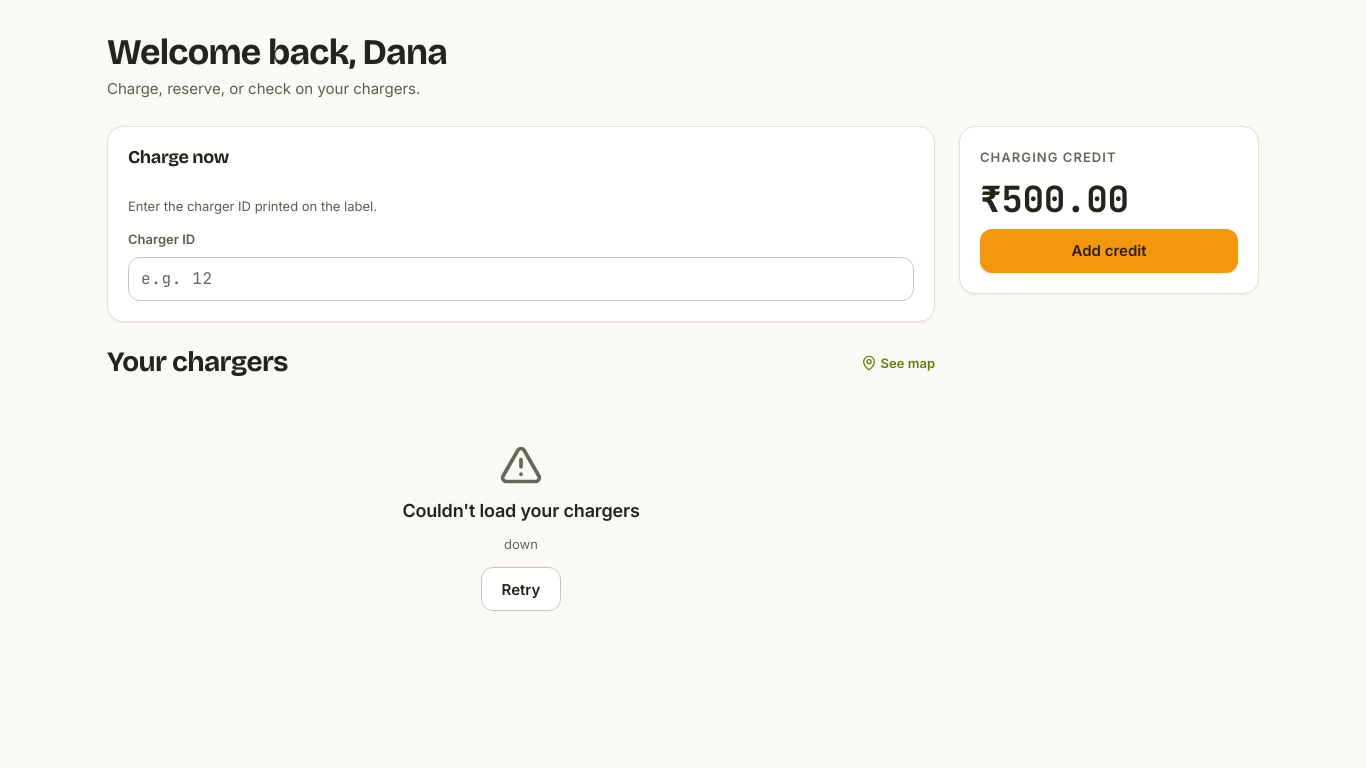
Test: Dashboard — charger grid › a failed plug fetch shows an ErrorState whose Retry reloads the grid
The width and height of the screenshot is (1366, 768).
Expected: the heading "Couldn't load your chargers" is shown, [402,499,640,522]
Click the button "Retry".
click(521, 589)  # box [481,567,561,611]
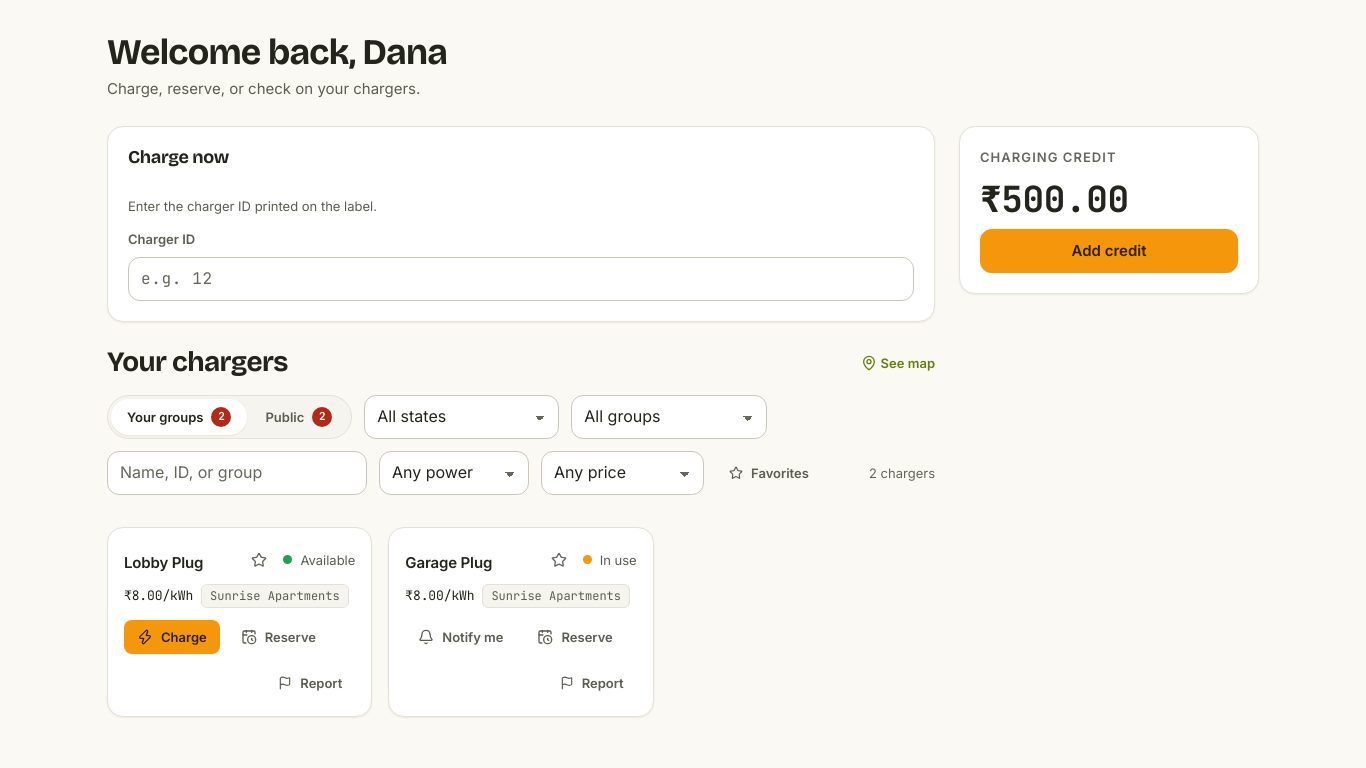
Now the heading "Lobby Plug" is shown, box [124,553,203,572]
